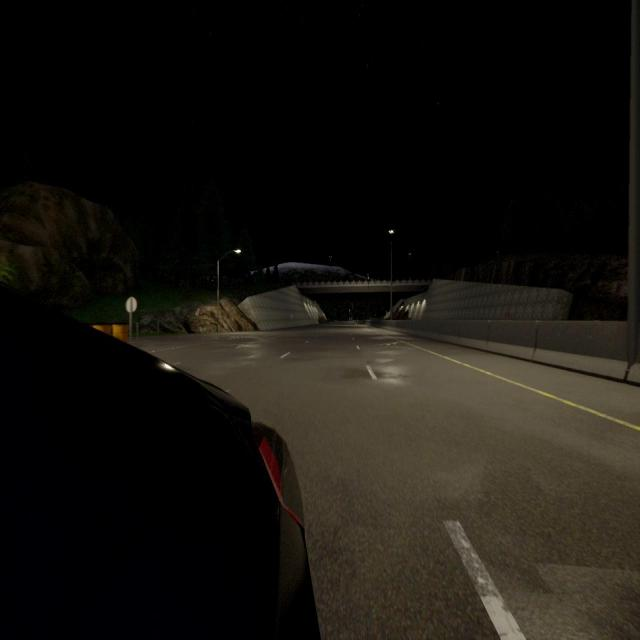Traffic_Signs: (125, 297, 138, 312), (194, 308, 200, 316), (290, 314, 294, 318)
Vehicle: (0, 286, 319, 640)
